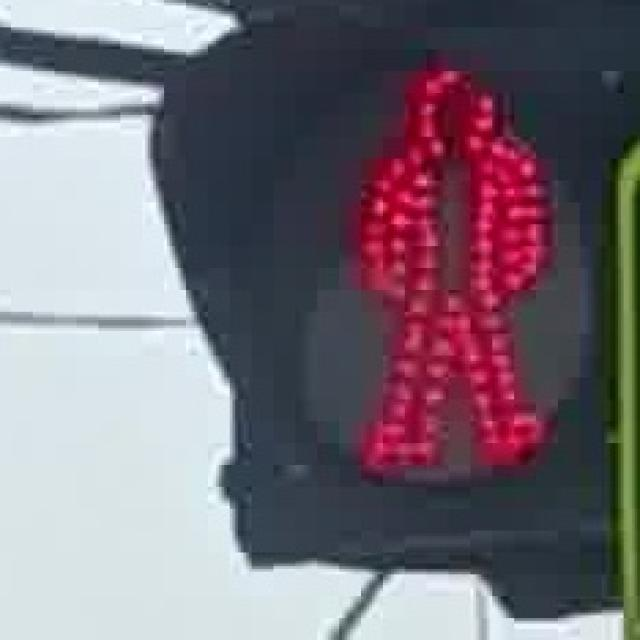red_light: (323, 43, 566, 496)
